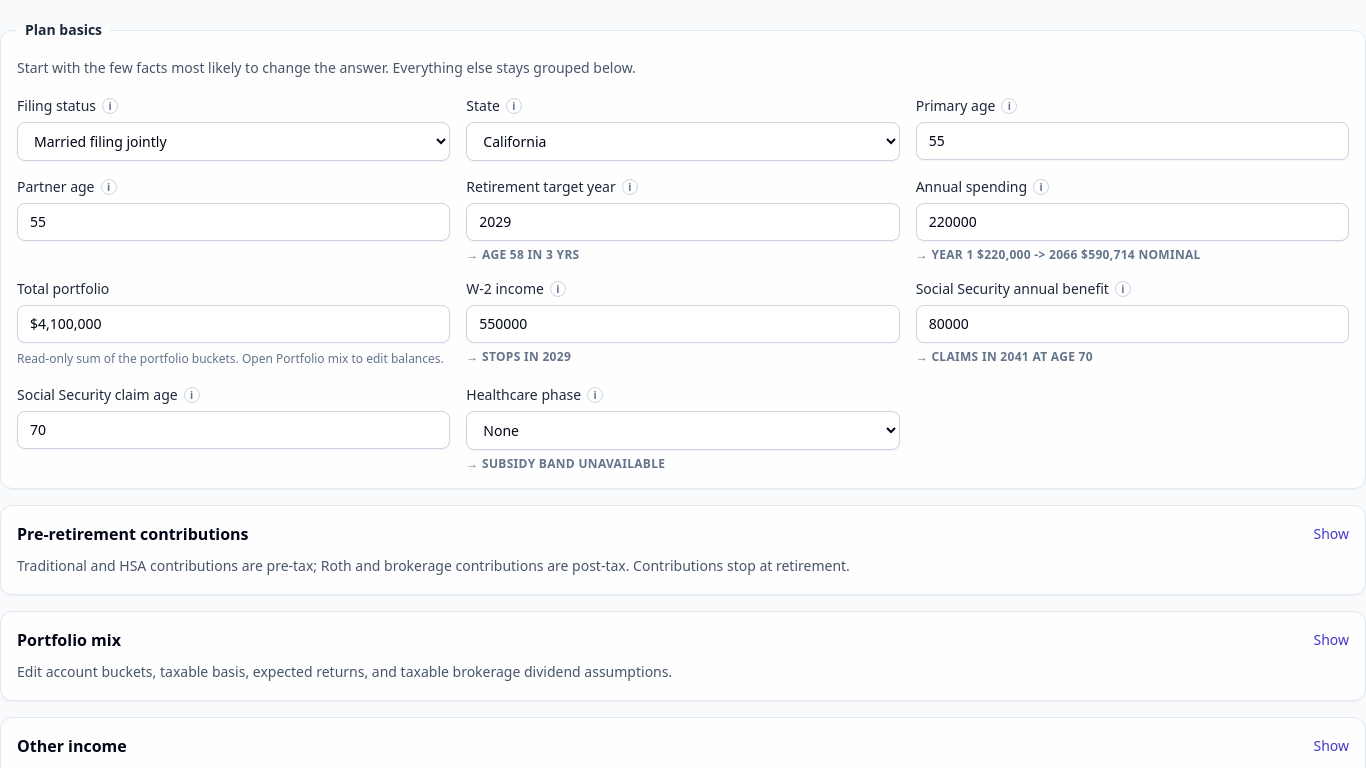
it: BasicForm verdict layout › updates the read-only total portfolio from existing bucket balances without changing debounce behavior
Click the button "Portfolio mix Show" at (69, 640), box [17,628,1349,652]
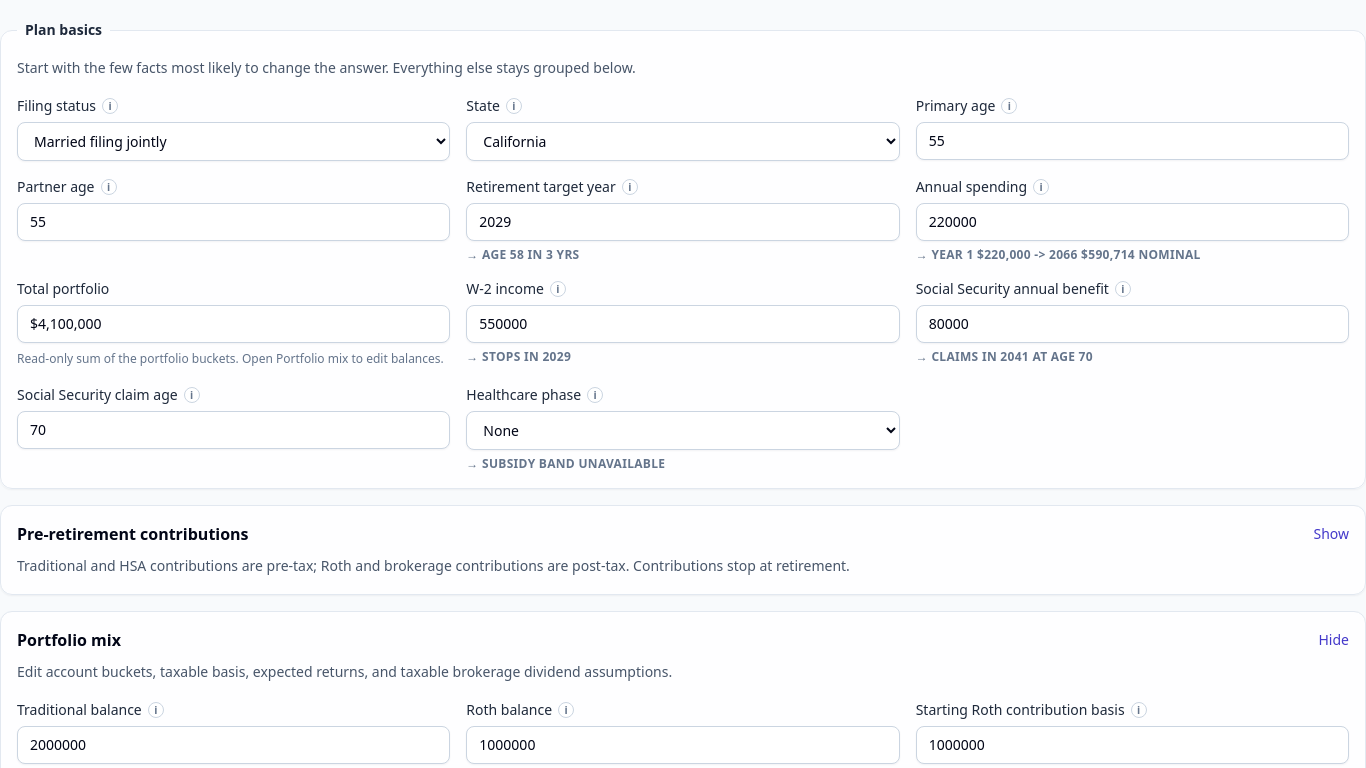
Replace the text in the field labelled "Traditional balance" with "2100000" at (234, 745), box [17,726,450,764]
Wait 151 ms
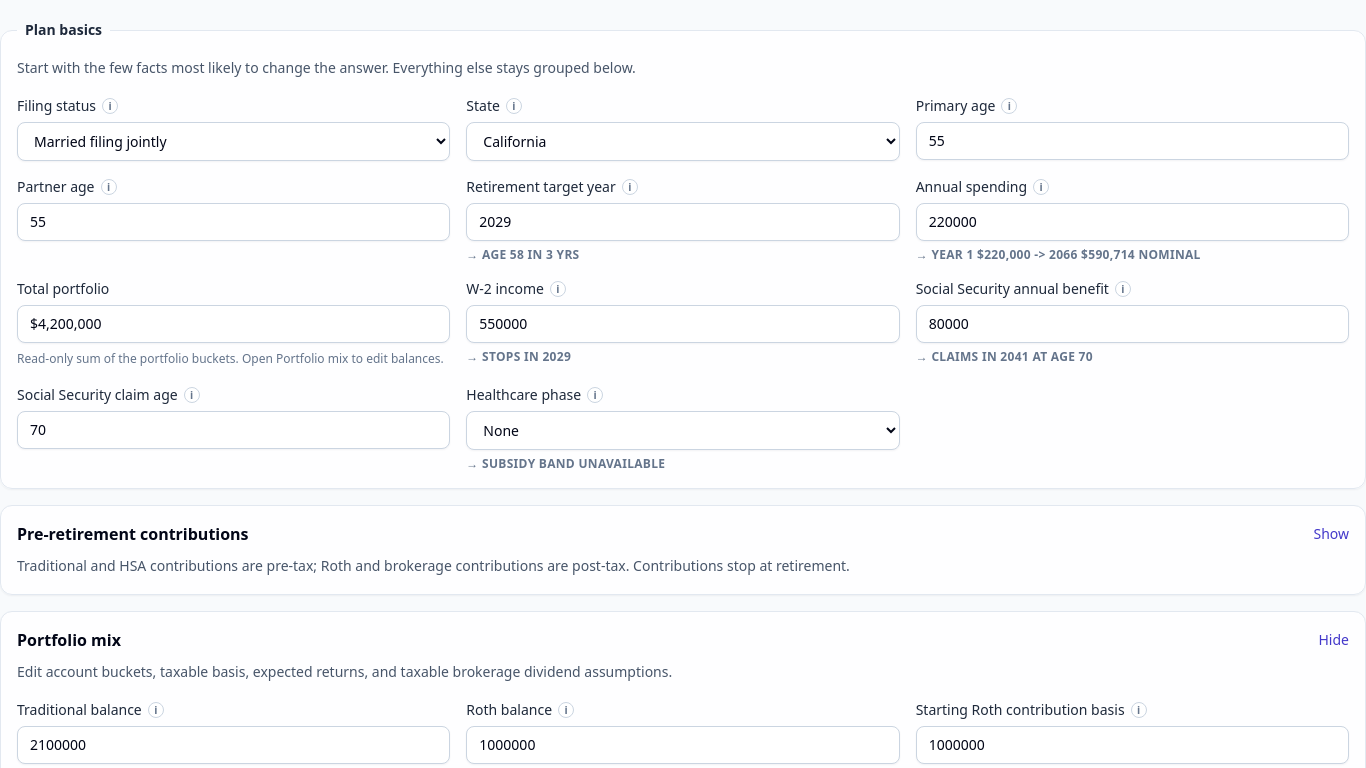
Result: the field labelled "Total portfolio" holds "$4,200,000" at [17,305,450,343]
